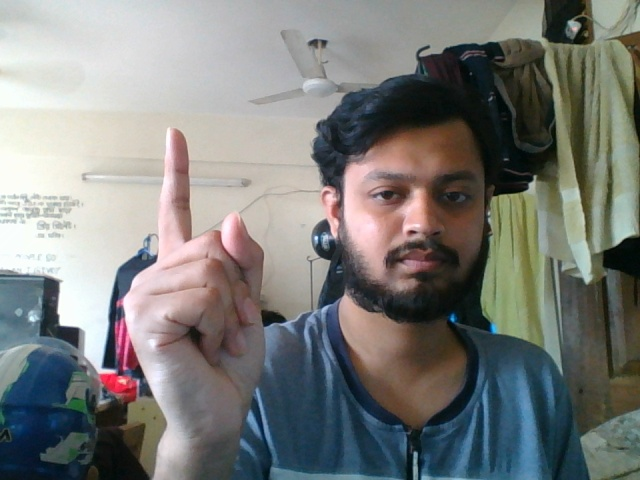u: (123, 121, 291, 445)
